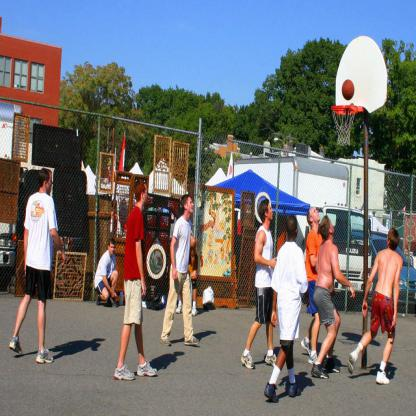Ball: (342, 80, 354, 100)
